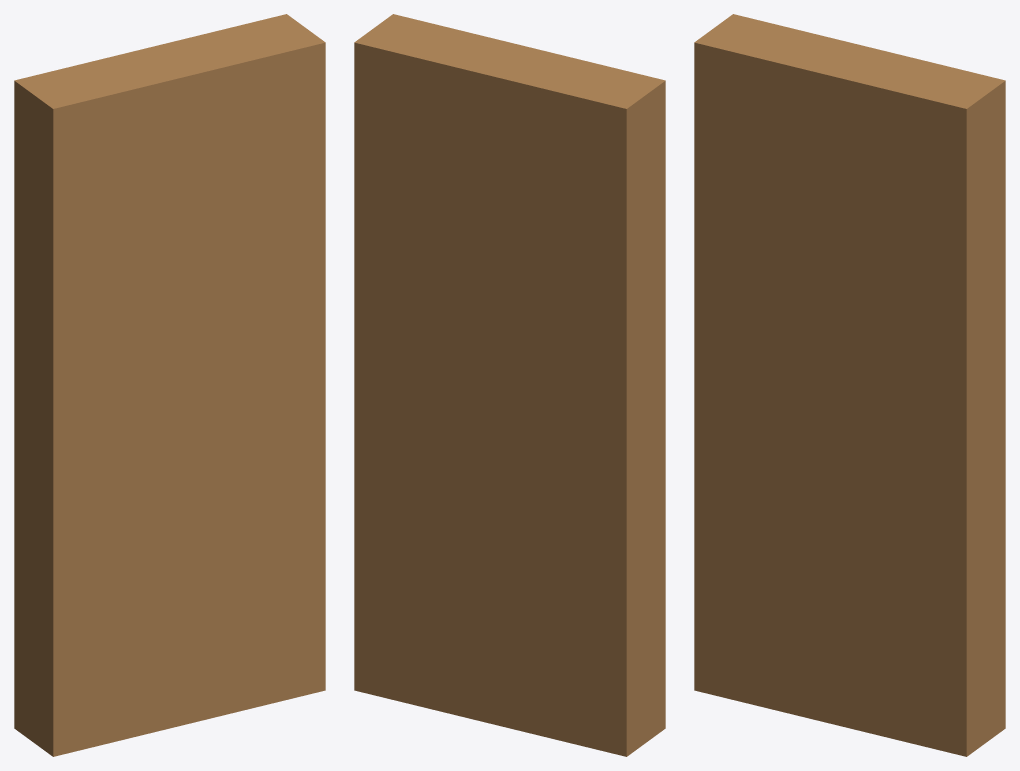
The model's file is puerta.obj.
3 renders of one model, left to right at view 1: azimuth 30°, elevation 25°; view 2: azimuth 150°, elevation 25°; view 3: azimuth 330°, elevation 25°, orthographic.
Parts seen in each view (by area): view 1: casa:pCube15; view 2: casa:pCube15; view 3: casa:pCube15.
Boxes of the visible parts, x1,y1,x2,y2 form: casa:pCube15: [14, 14, 325, 756]; casa:pCube15: [354, 14, 665, 756]; casa:pCube15: [694, 14, 1005, 756].
Bounding box in the file's own units: 2.02 × 4.58 × 0.5.
Materials: 1 (1 with a texture image).
